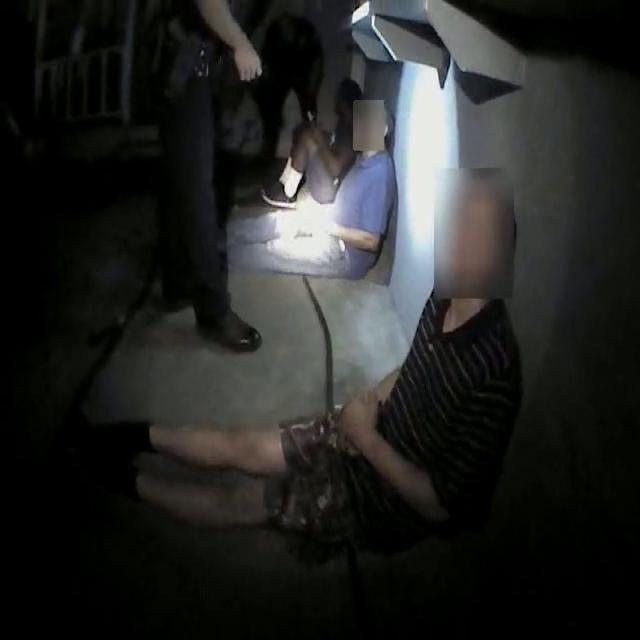gun: (155, 0, 218, 102)
